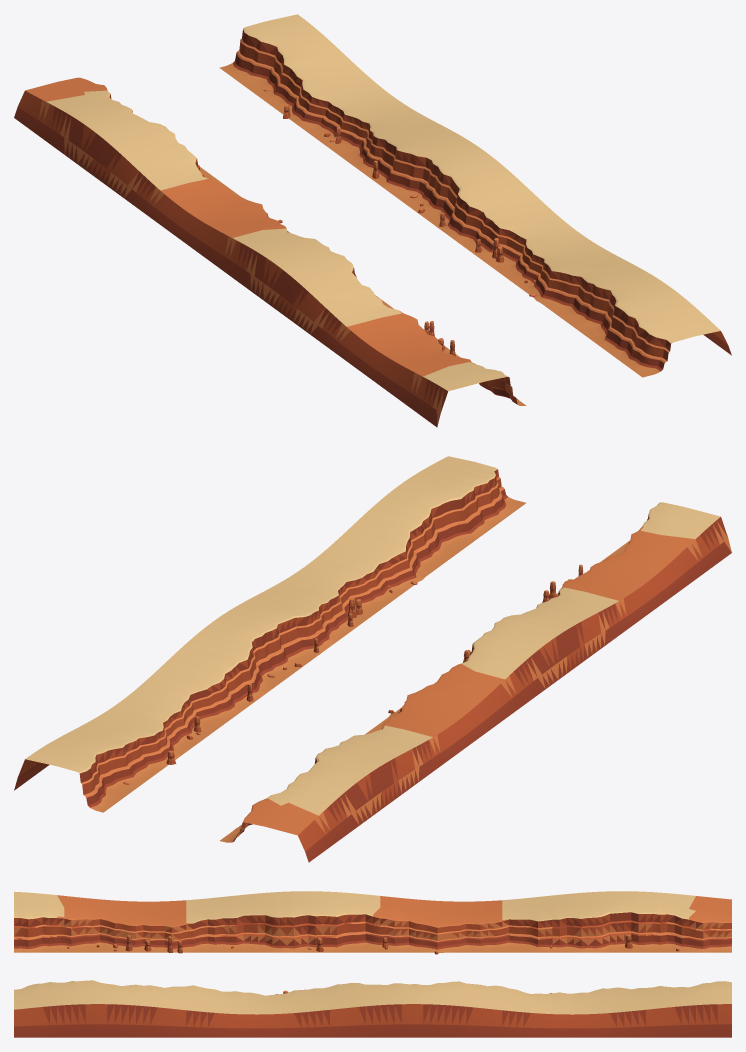
File: BordeDesierto.fbx
3 renders of one model, top to bottom at view 1: azimuth 30°, elevation 25°; view 2: azimuth 150°, elevation 25°; view 3: azimuth 270°, elevation 25°, orthographic. The views are drawn at different scales.
Visible parts, largest first — view 1: BordeDesierto; view 2: BordeDesierto; view 3: BordeDesierto.
Boxes of the visible parts, left/top/right/bottom form: BordeDesierto: left=14, top=14, right=731, bottom=427; BordeDesierto: left=14, top=456, right=731, bottom=862; BordeDesierto: left=14, top=891, right=731, bottom=1037.
Bounding box in the file's own units: 804 × 91.49 × 2000.
Materials: 1 (1 with a texture image).
